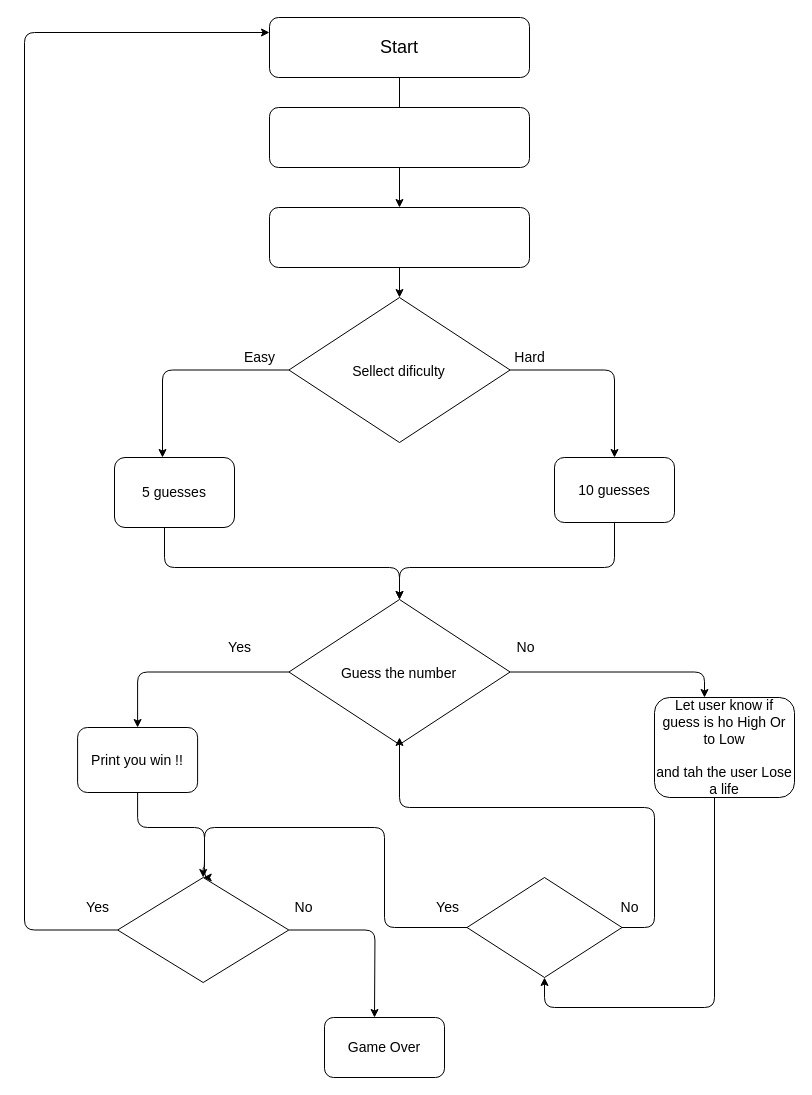
Image size: 812x1095. Some labels were removed from this diagram. Here are the shapes that lost their labels. From the top down, the centre of each, then its label:
point (399, 137): Print Guess the number between 1 nam 100
point (399, 237): Generate random number between 1 nad 100
point (203, 929): Play Again
point (544, 927): Have they run out of lives ?
